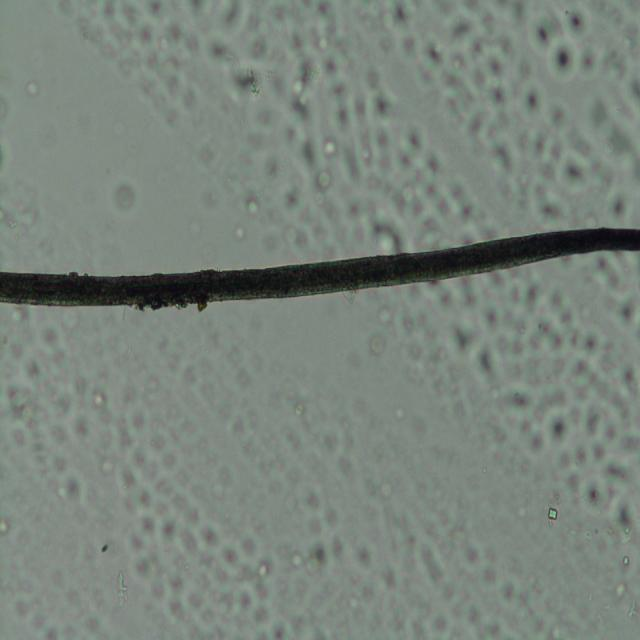Background material: (125, 476, 287, 639), (479, 340, 640, 494), (332, 84, 473, 255), (404, 0, 525, 152), (517, 80, 600, 224), (525, 0, 598, 79), (131, 0, 189, 90), (289, 49, 327, 175), (186, 0, 248, 55), (588, 96, 636, 166), (522, 286, 574, 340), (414, 534, 449, 584), (232, 55, 271, 98), (8, 381, 42, 426), (587, 256, 621, 300), (303, 531, 341, 568), (55, 454, 83, 502), (610, 500, 640, 540), (273, 180, 305, 212), (451, 321, 476, 357), (615, 300, 640, 334), (367, 327, 395, 355), (114, 564, 130, 604), (92, 385, 112, 417), (314, 0, 336, 27), (119, 414, 137, 447), (116, 181, 136, 210), (290, 23, 306, 55), (607, 580, 627, 604), (226, 413, 246, 436), (21, 72, 41, 94), (616, 553, 632, 580), (322, 53, 339, 77), (612, 194, 630, 215), (74, 413, 89, 438), (245, 197, 262, 219), (626, 594, 640, 620), (395, 5, 408, 26), (293, 399, 302, 415), (100, 542, 111, 555)
Microfibre: (0, 227, 640, 315)
Salt: (546, 506, 560, 520)
